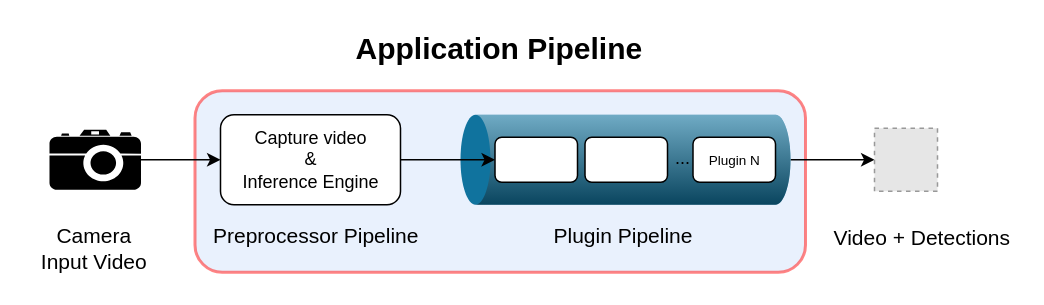
Image size: 1044x305. Some labels were removed from this diagram. Grey dashed boxes stand in for pictures. The centre of each missing label's shape, as x and y in pixels:
"Plugin 1" belongs at point (536, 159).
"Plugin 2" belongs at point (626, 159).
